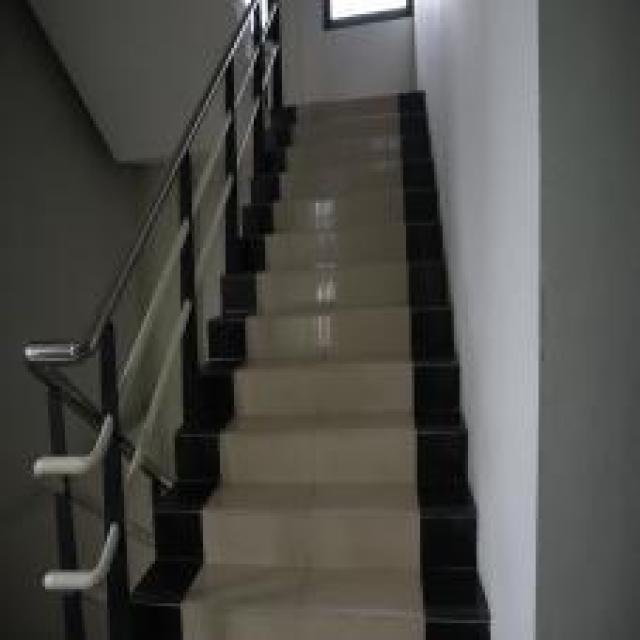upstair: (261, 97, 467, 638)
